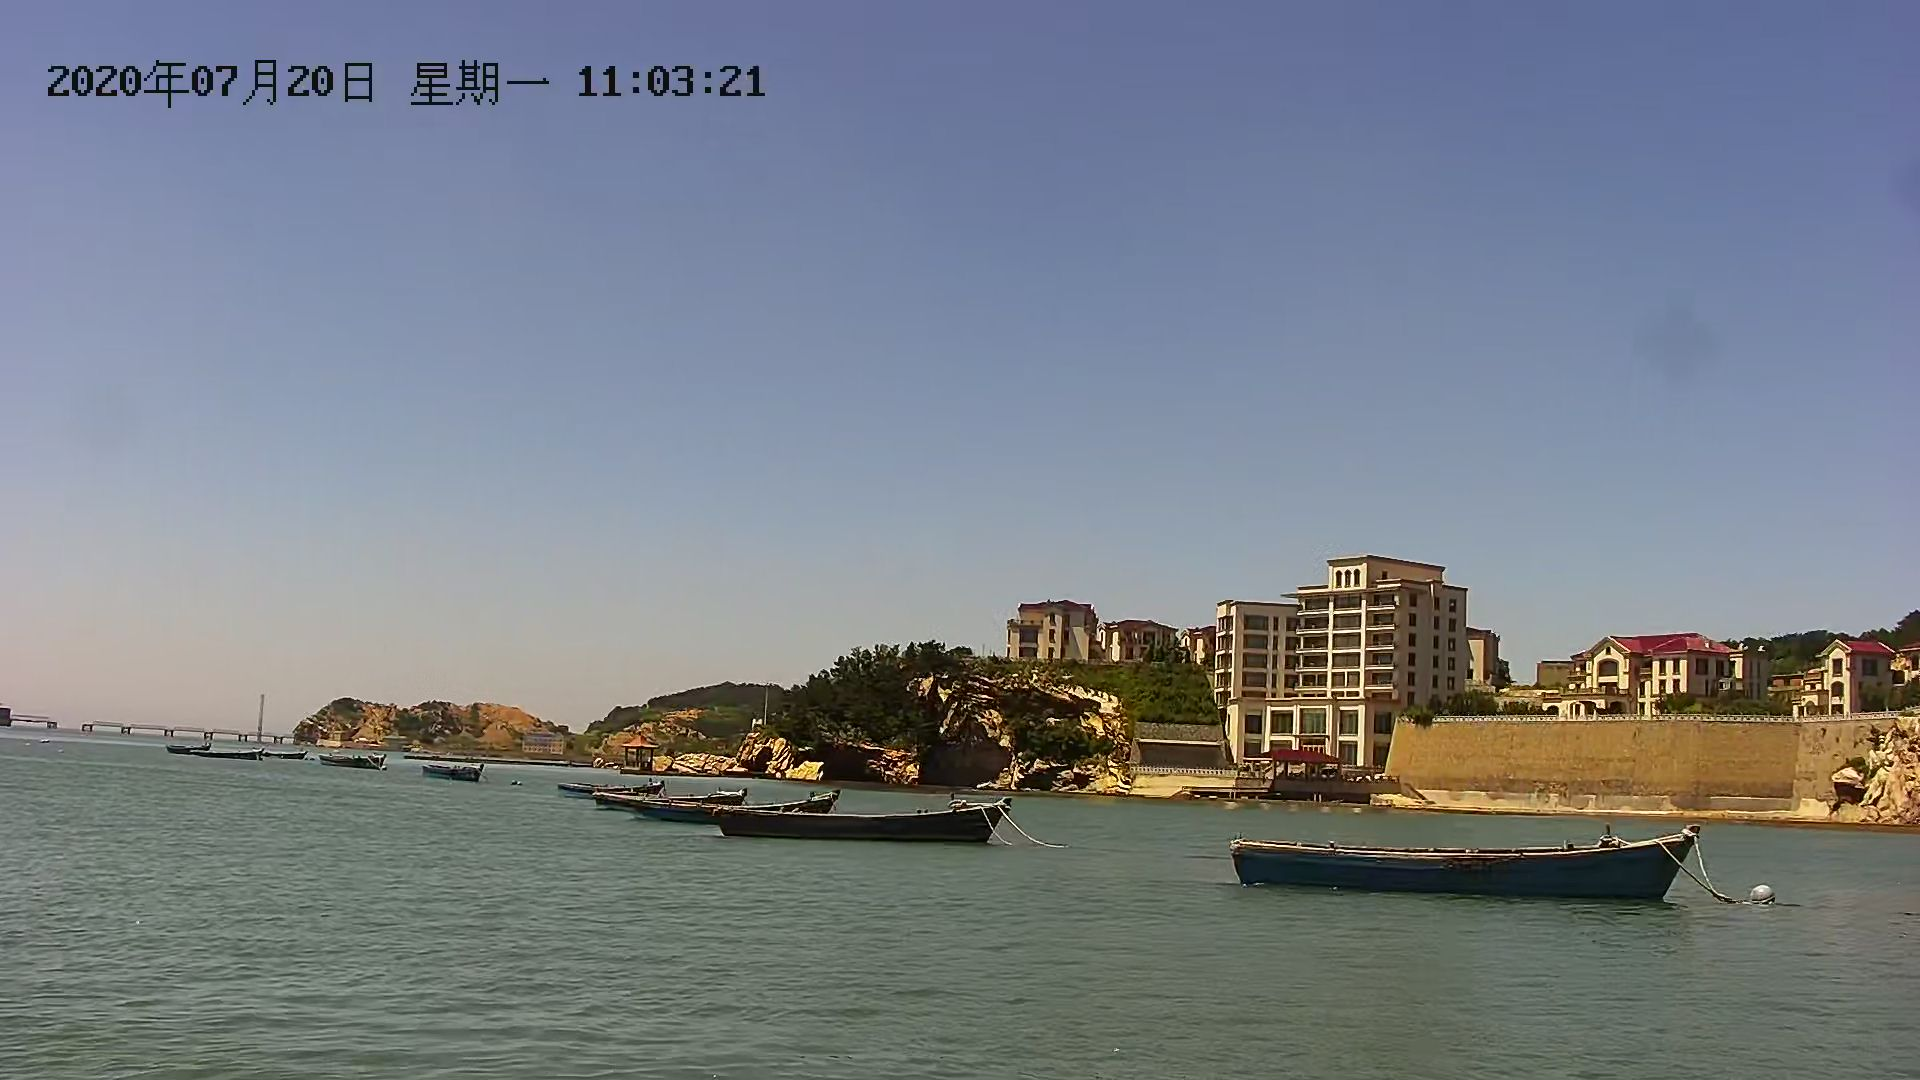ball: (1747, 885, 1774, 913)
boat: (1225, 829, 1700, 916), (709, 802, 1011, 844), (419, 760, 488, 789), (313, 752, 392, 775), (191, 744, 266, 767)
harbor: (3, 704, 301, 756)
